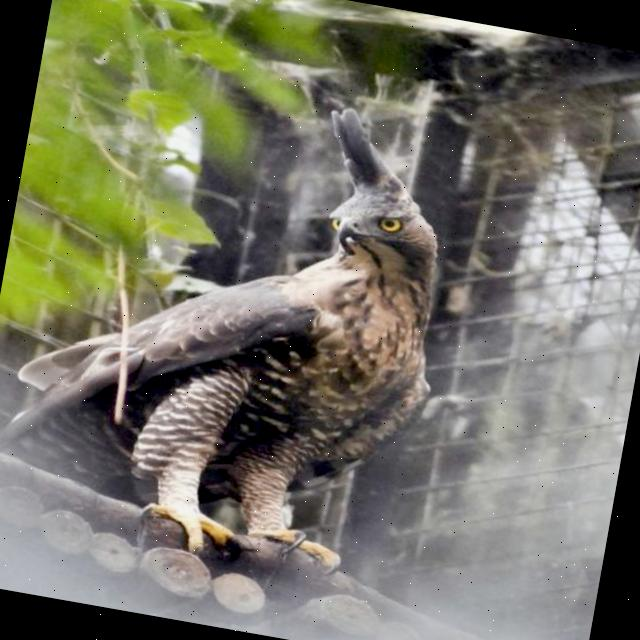Elang Jawa: (0, 34, 532, 619)
